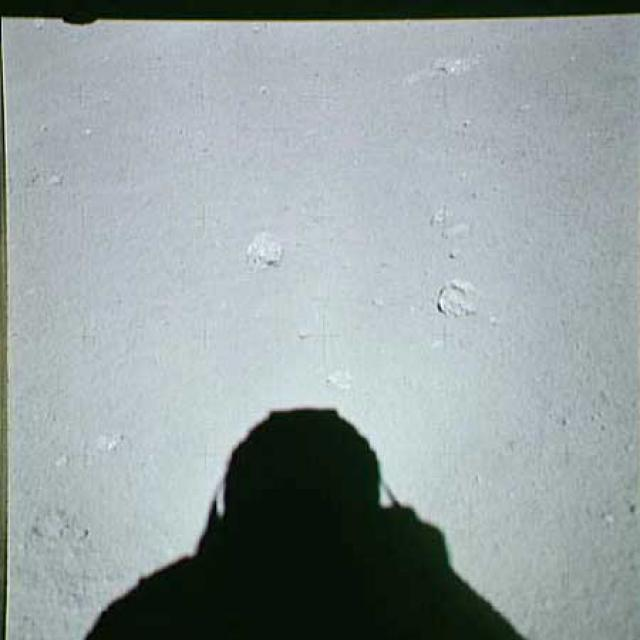rock: (387, 47, 492, 87), (426, 273, 485, 320), (240, 224, 288, 274)
